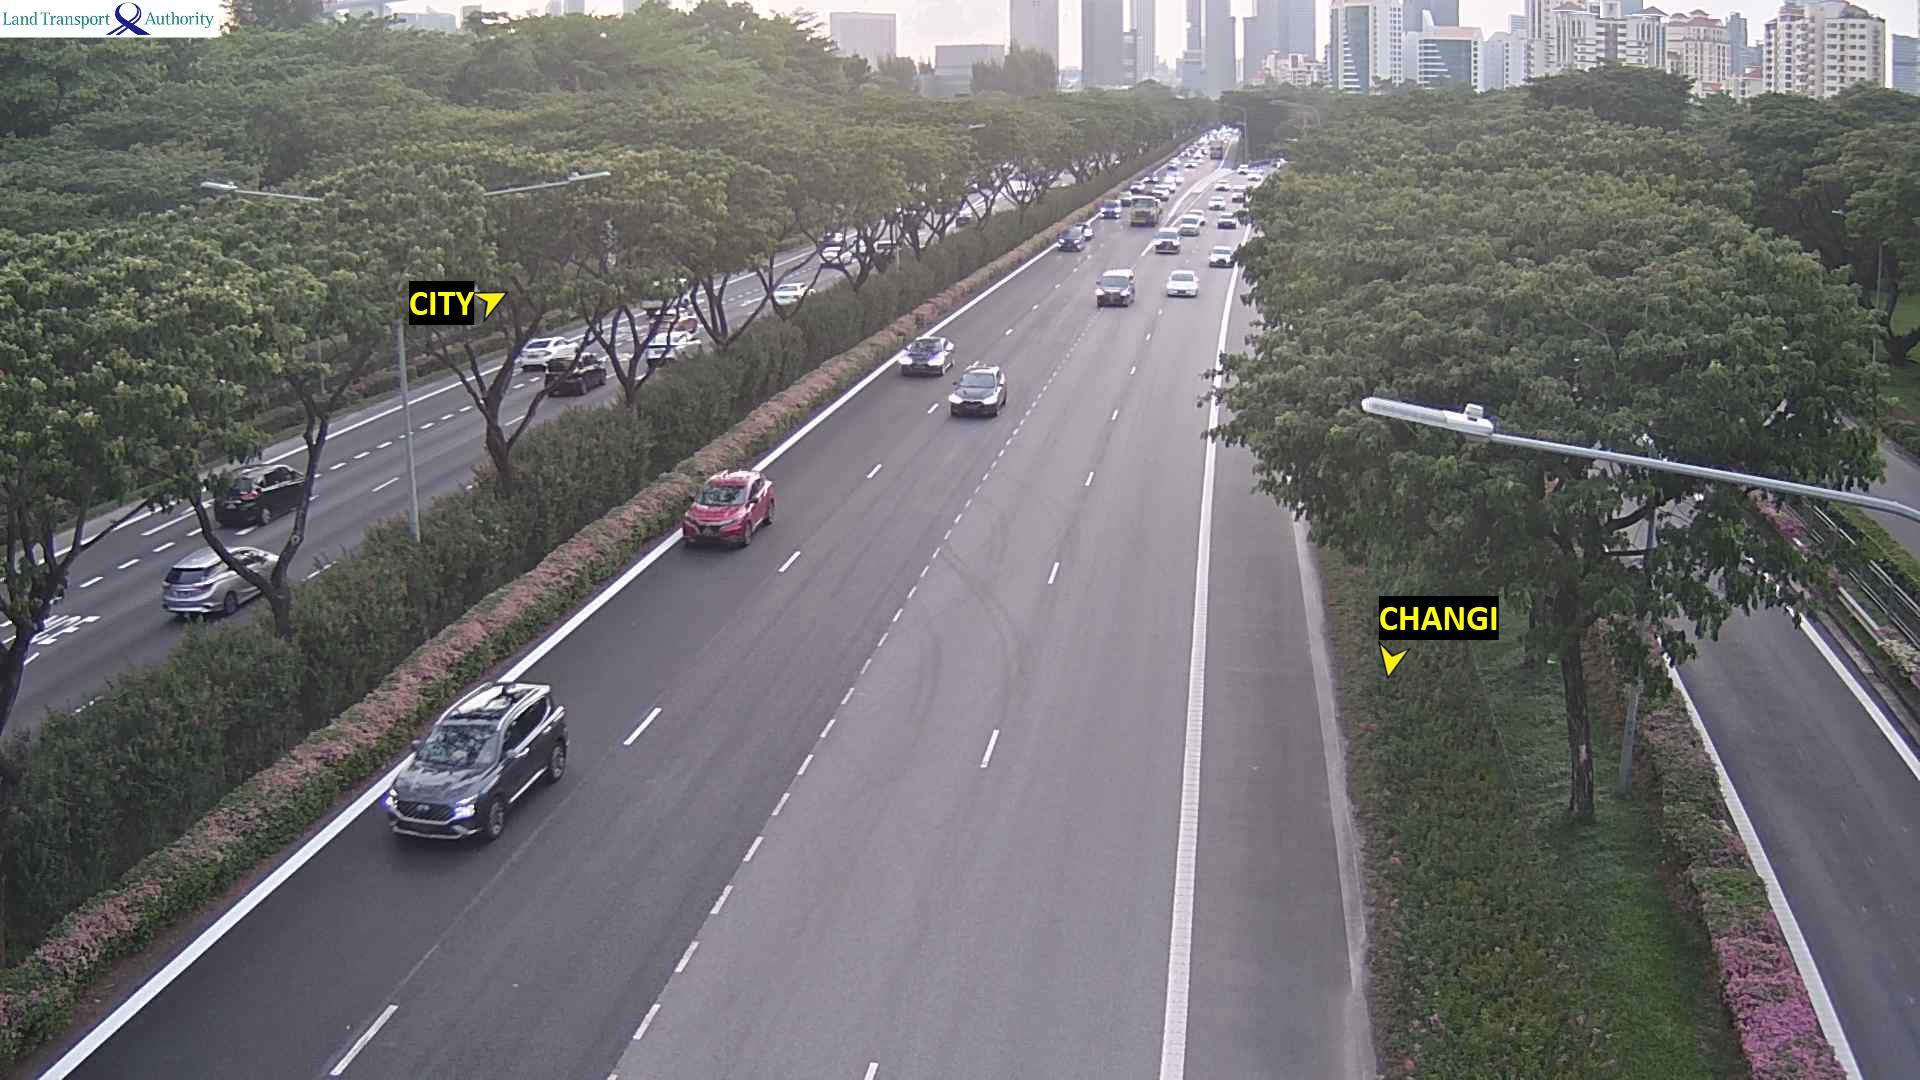incoming: (394, 715, 508, 847), (687, 477, 758, 550), (952, 369, 1002, 421), (902, 339, 944, 377), (1095, 273, 1135, 307), (1166, 269, 1199, 297), (1129, 196, 1159, 225), (1155, 228, 1183, 255), (1058, 227, 1084, 251), (1100, 196, 1122, 219), (1209, 247, 1233, 266), (1180, 216, 1200, 236), (1217, 214, 1238, 229), (1207, 195, 1225, 210)
